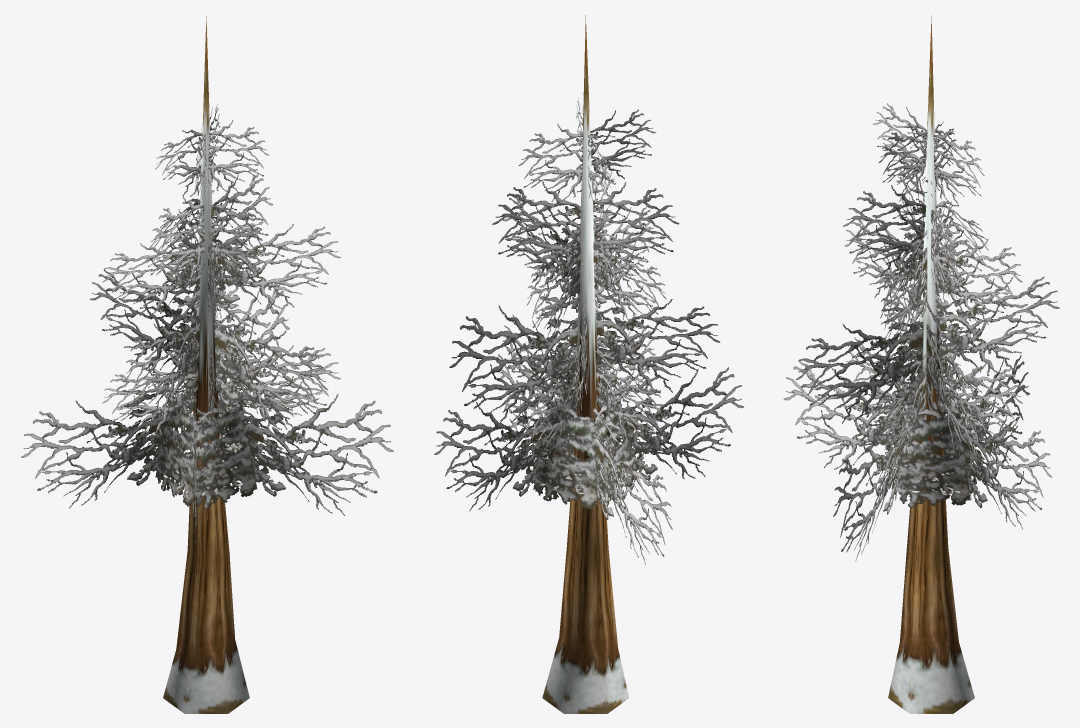
Rendered from ironforgetree04.obj.
3 views of the same model, side by side, from view 1: azimuth 30°, elevation 25°; view 2: azimuth 150°, elevation 25°; view 3: azimuth 270°, elevation 25° (orthographic).
Visible parts, largest first — view 1: IRONFORGETREE041, IRONFORGETREE040; view 2: IRONFORGETREE041, IRONFORGETREE040; view 3: IRONFORGETREE041, IRONFORGETREE040.
Boxes of the visible parts, x1,y1,x2,y2 form: IRONFORGETREE041: [21, 104, 393, 547]; IRONFORGETREE040: [163, 16, 249, 713]; IRONFORGETREE041: [434, 98, 743, 564]; IRONFORGETREE040: [542, 15, 628, 713]; IRONFORGETREE041: [783, 103, 1059, 561]; IRONFORGETREE040: [888, 15, 974, 713].
Size of the model in its own units: 22.1 by 50.76 by 19.33.
2 materials, 2 textured.
